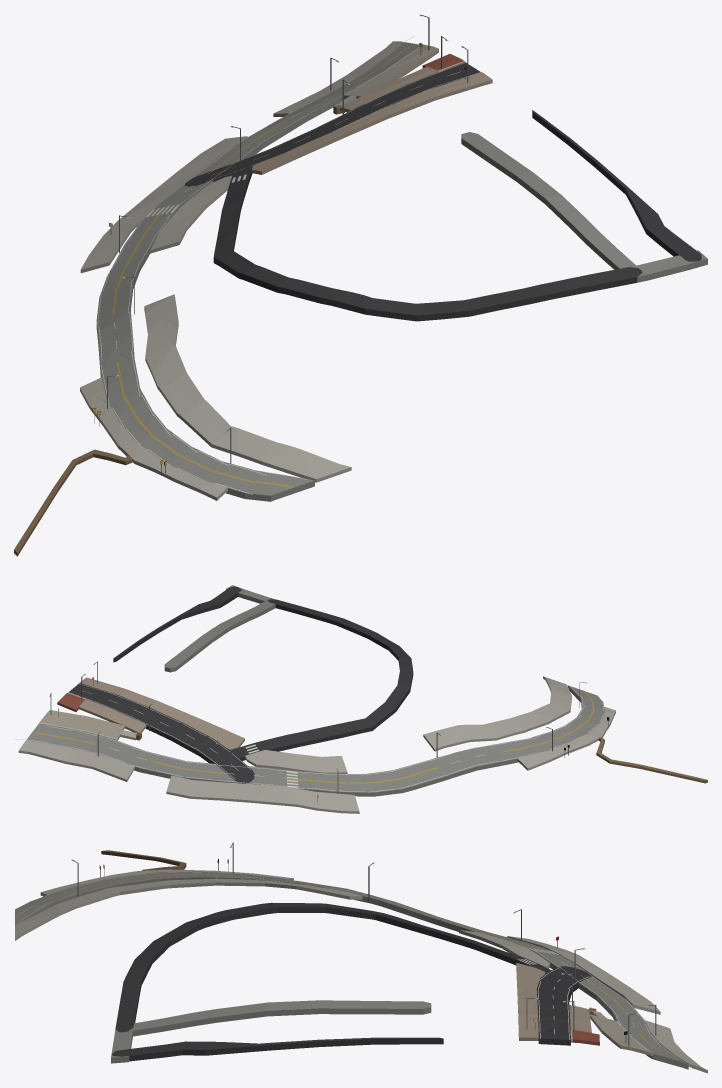
The picture shows the model from 3 angles, top to bottom: view 1: azimuth 30°, elevation 25°; view 2: azimuth 150°, elevation 25°; view 3: azimuth 270°, elevation 25°; orthographic projection. The views are drawn at different scales.
Bounding box in the file's own units: 150 × 35.81 × 134.
